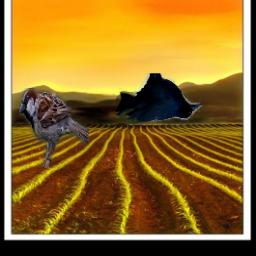Crow: (117, 73, 203, 122)
Sparrow: (19, 88, 89, 168)
